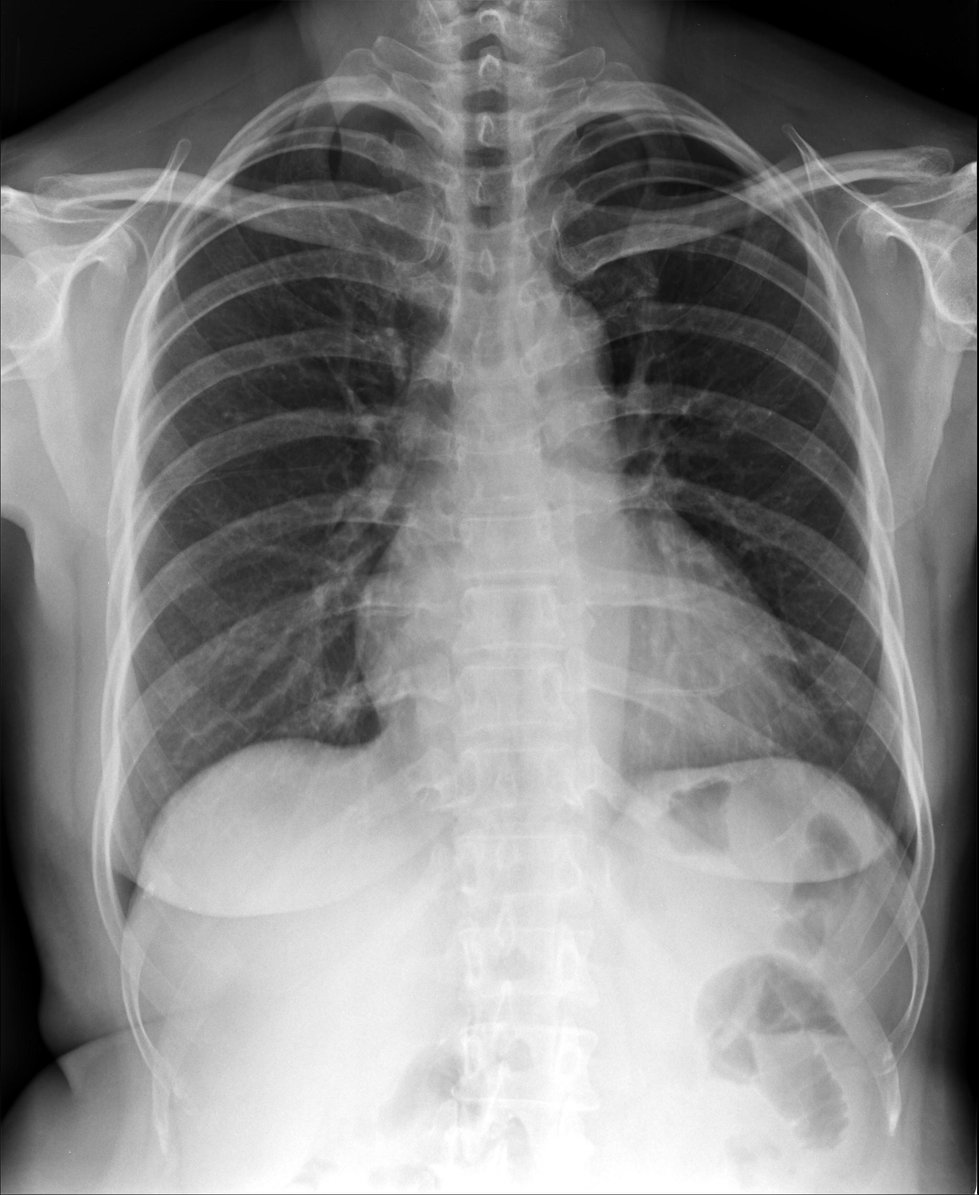Cardiomegaly: (341, 587, 829, 793), (499, 280, 615, 401)
